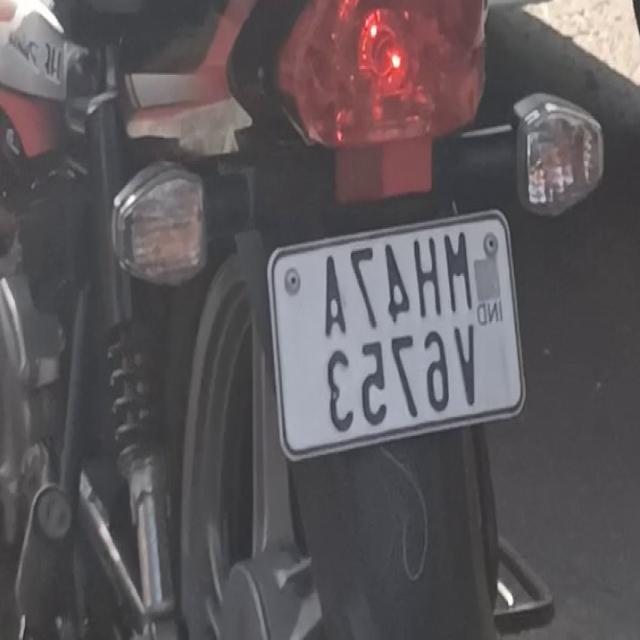license_plate: (265, 191, 528, 476)
